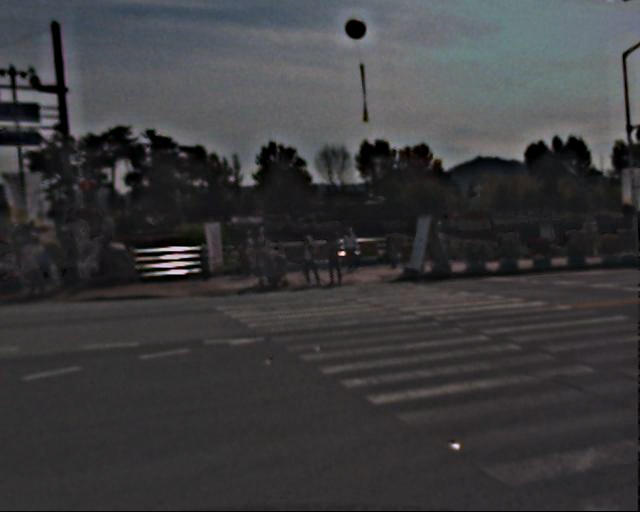person: (23, 229, 67, 300), (62, 224, 91, 296), (253, 226, 279, 289), (327, 231, 350, 288), (301, 233, 323, 286), (240, 230, 261, 280), (343, 223, 363, 272)
